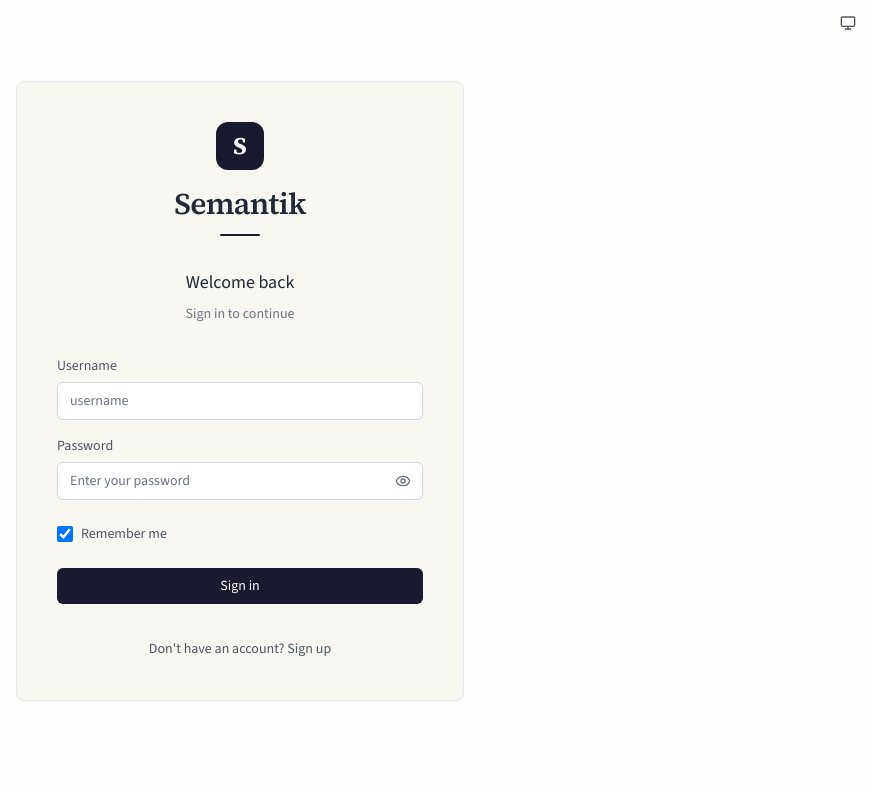
Test case: LoginPage › toggles to registration form
The width and height of the screenshot is (873, 791).
Click the button "Don't have an account? Sign up".
click(240, 649)  # box [149,639,331,659]
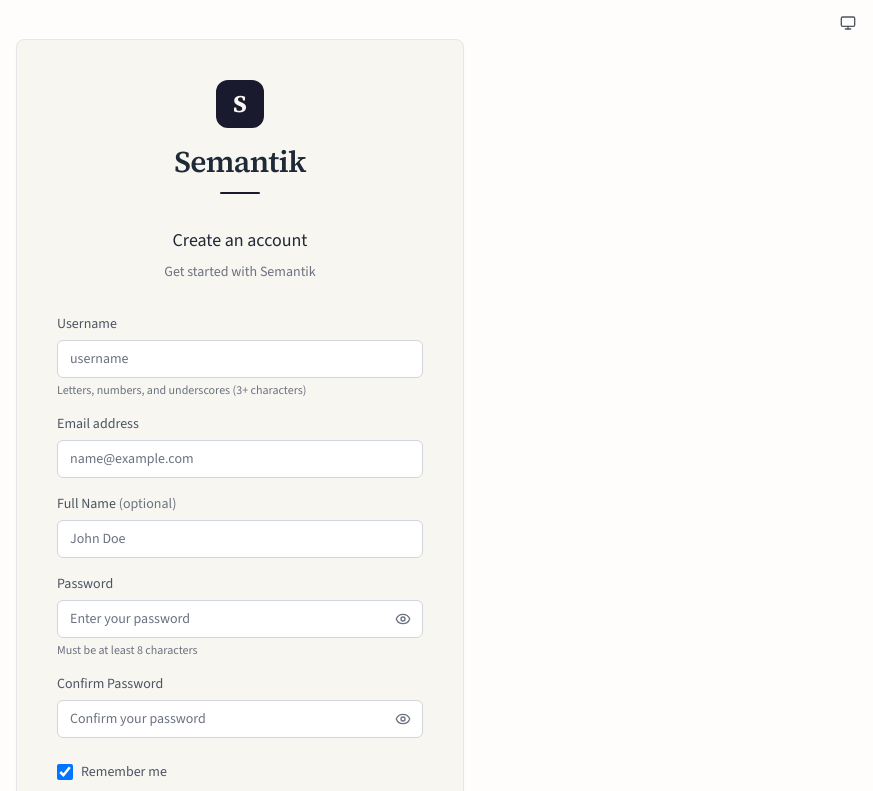
Expected: the heading "Create an account" is shown, [172,228,307,252]
Expected: the field with placeholder "name@example.com" is shown, [57,440,423,478]
Expected: the field with placeholder "John Doe" is shown, [57,520,423,558]
